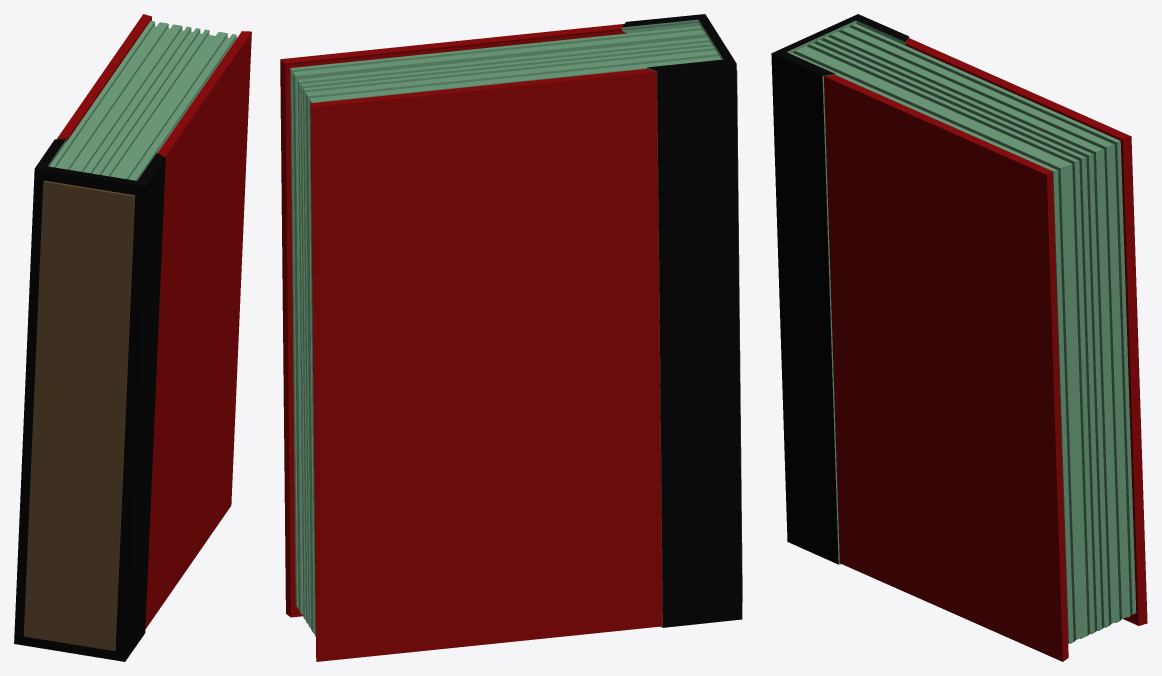
Rendered from ThirdShelfBook11.fbx.
The picture shows the model from 3 angles, left to right: view 1: azimuth 30°, elevation 25°; view 2: azimuth 150°, elevation 25°; view 3: azimuth 270°, elevation 25°; orthographic projection. The views are drawn at different scales.
Visible parts, largest first — view 1: Book.011; view 2: Book.011; view 3: Book.011.
Boxes of the visible parts, left/top/right/bottom form: Book.011: left=14, top=14, right=251, bottom=661; Book.011: left=280, top=14, right=742, bottom=661; Book.011: left=771, top=14, right=1147, bottom=661.
Bounding box in the file's own units: 123 × 176 × 120.
